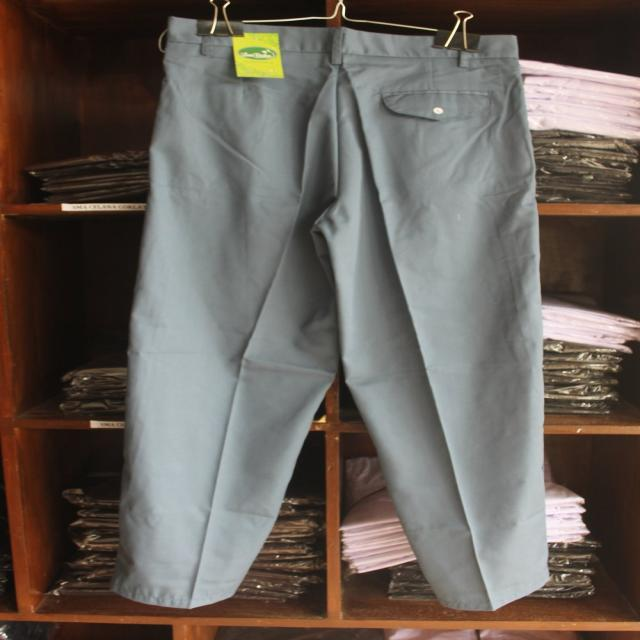long-pants: (121, 13, 554, 616)
